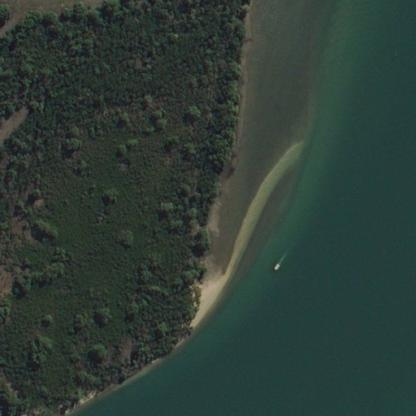ship: (273, 262, 278, 270)
